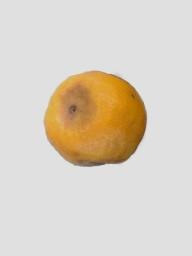Unripe: (44, 71, 145, 166)
